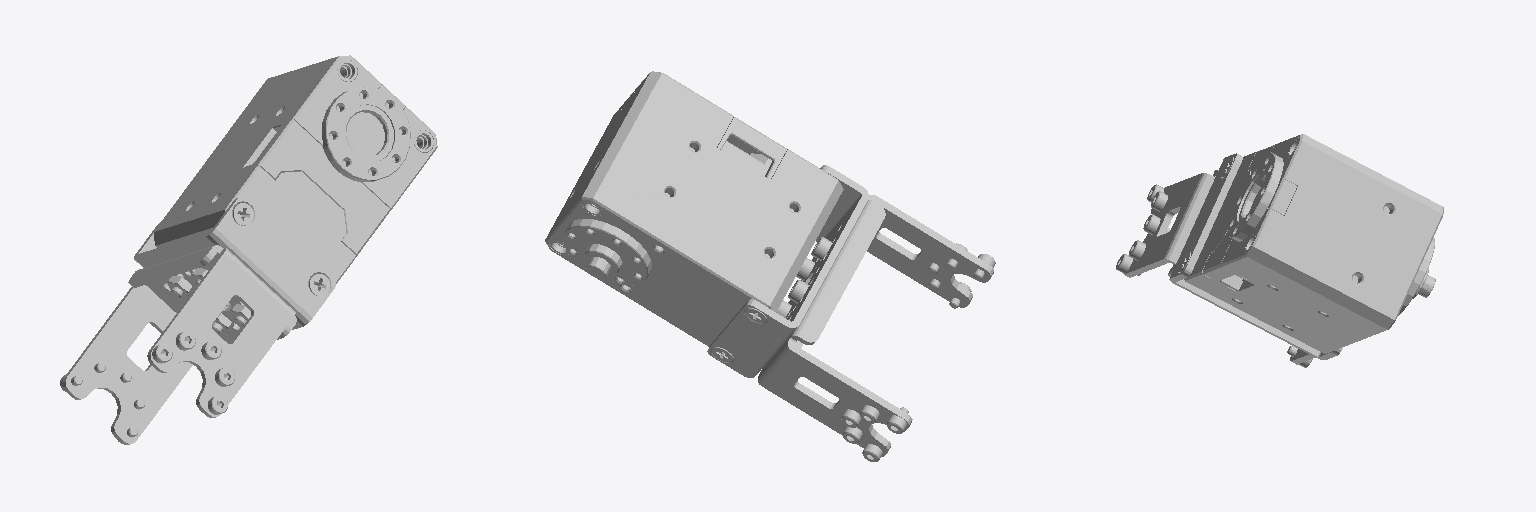
3 renders of one model, left to right at view 1: azimuth 30°, elevation 25°; view 2: azimuth 150°, elevation 25°; view 3: azimuth 270°, elevation 25°, orthographic.
Visible parts, largest first — view 1: off; view 2: off; view 3: off.
Part boxes in pixels (x1,y1,x2,y2): off: (60,55,437,444); off: (545,71,995,461); off: (1116,134,1443,367).
Size of the model in its own units: 0.0791 by 0.0761 by 0.0672.